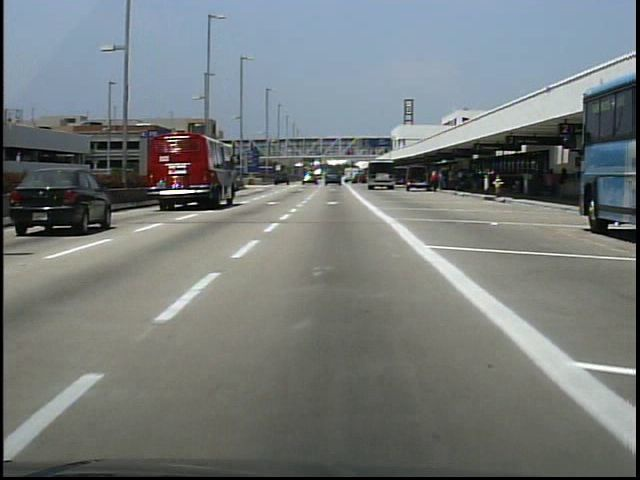person: (433, 173, 442, 197)
